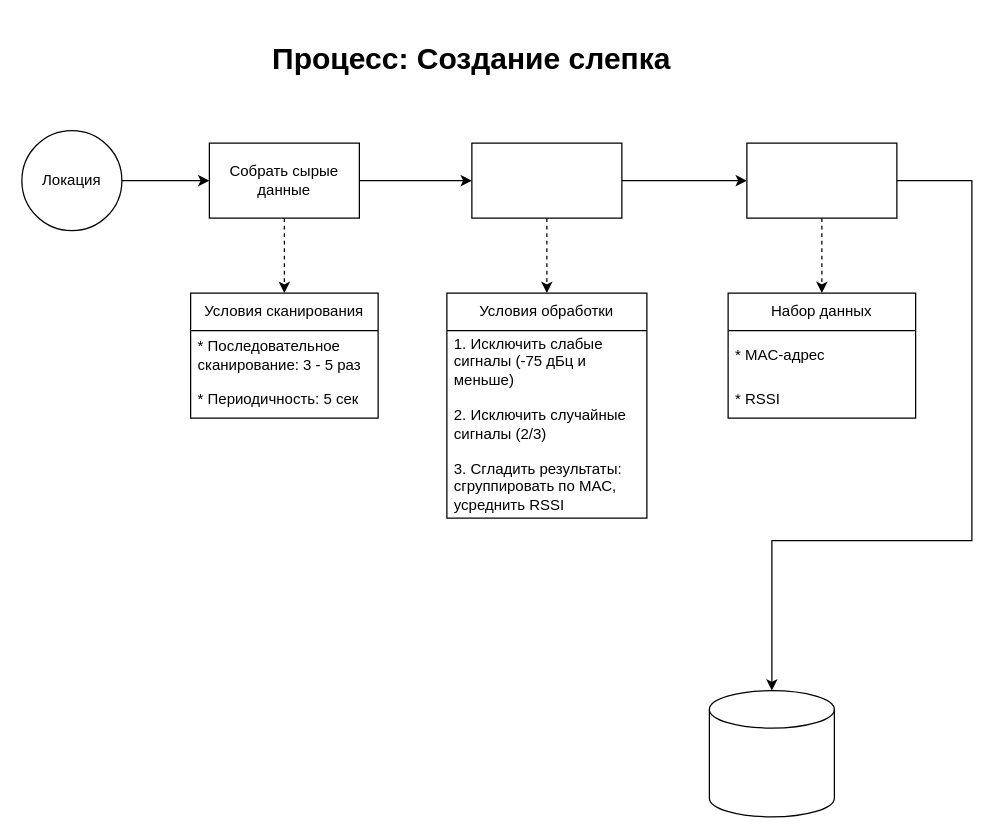
Some shapes in this 1004 by 839 pixel diagram are drawn without their labels. The centre of each missing label's shape, as x and y in pixels:
Обработать: (546,180)
Создать слепок: (821,180)
